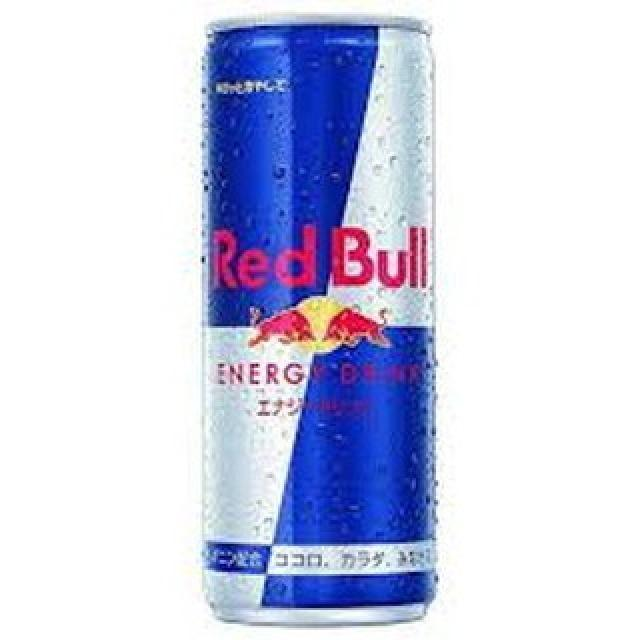can: (199, 14, 439, 626)
